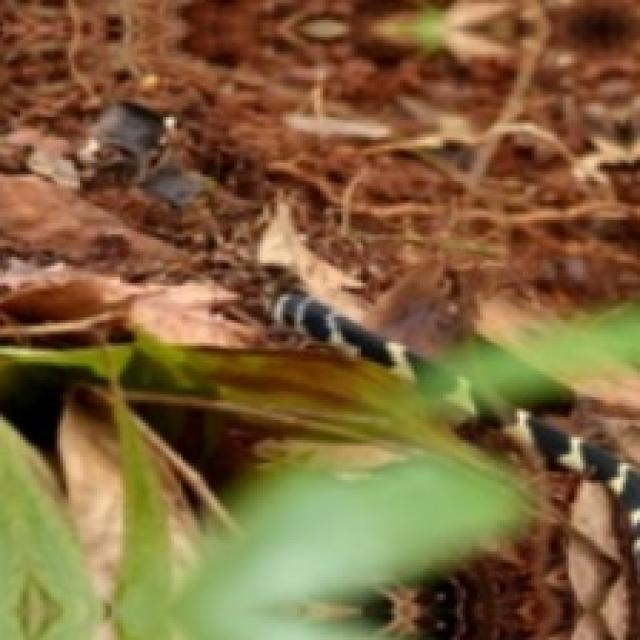king cobra: (269, 291, 637, 637)
